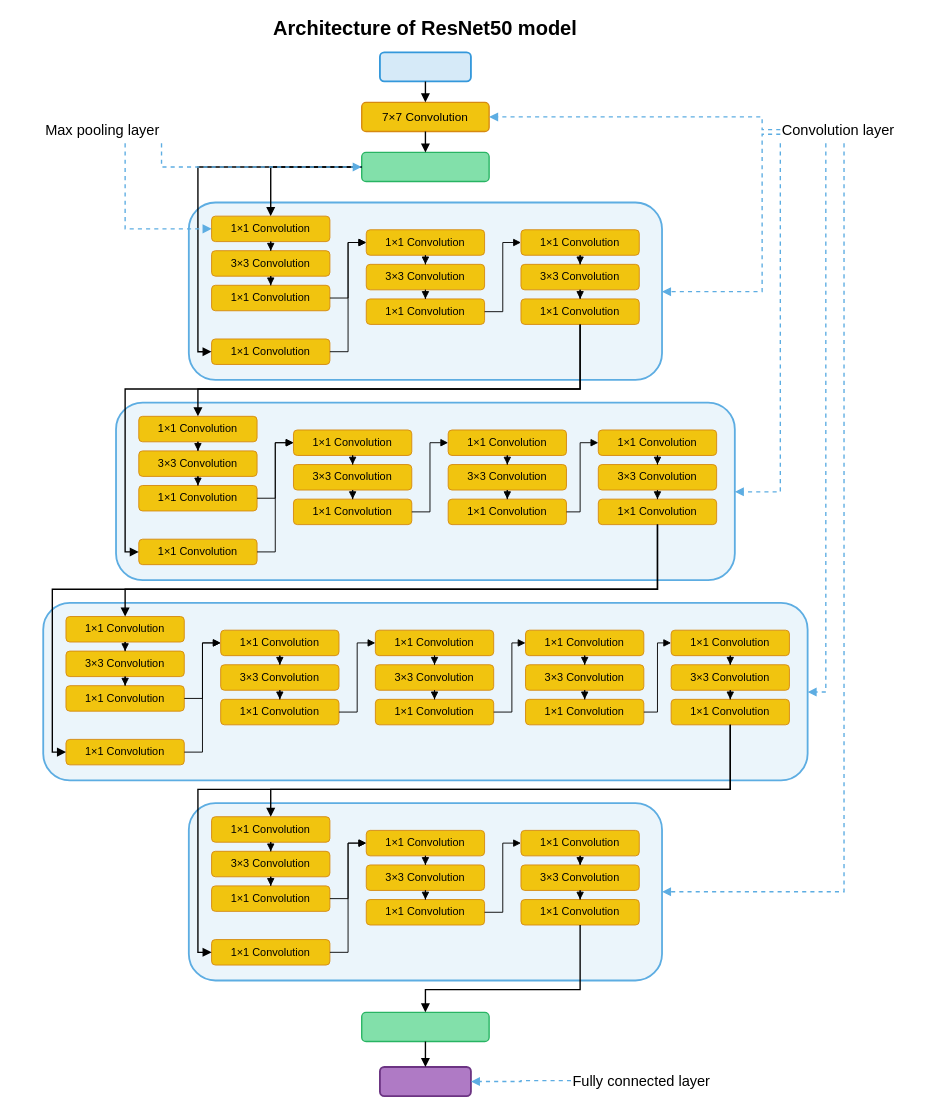
The diagram is 941 pixels wide and 1112 high, and some of its shapes have lost their labels. Here are the shapes that lost their labels. From the top down, the centre of each, then its label:
At pixel 425 66: "Input".
At pixel 425 166: "3×3 Maxpooling".
At pixel 425 1026: "7×7 Avgpooling".
At pixel 425 1081: "FC".
